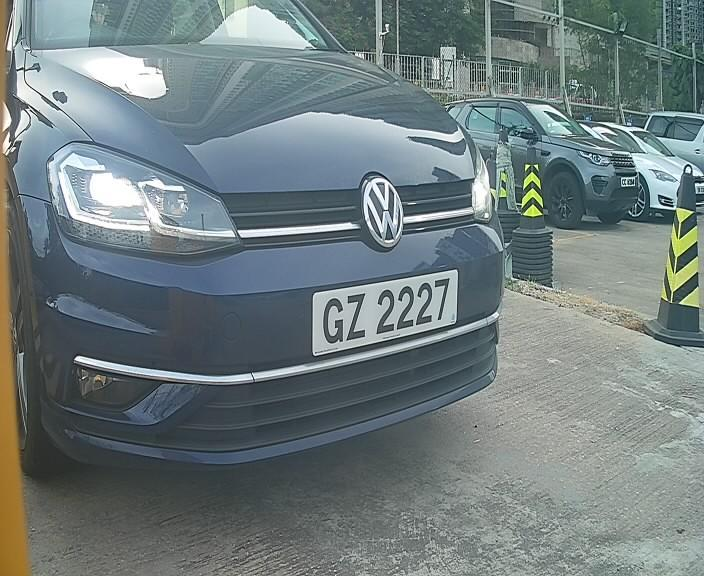privatecar: (23, 11, 529, 463)
